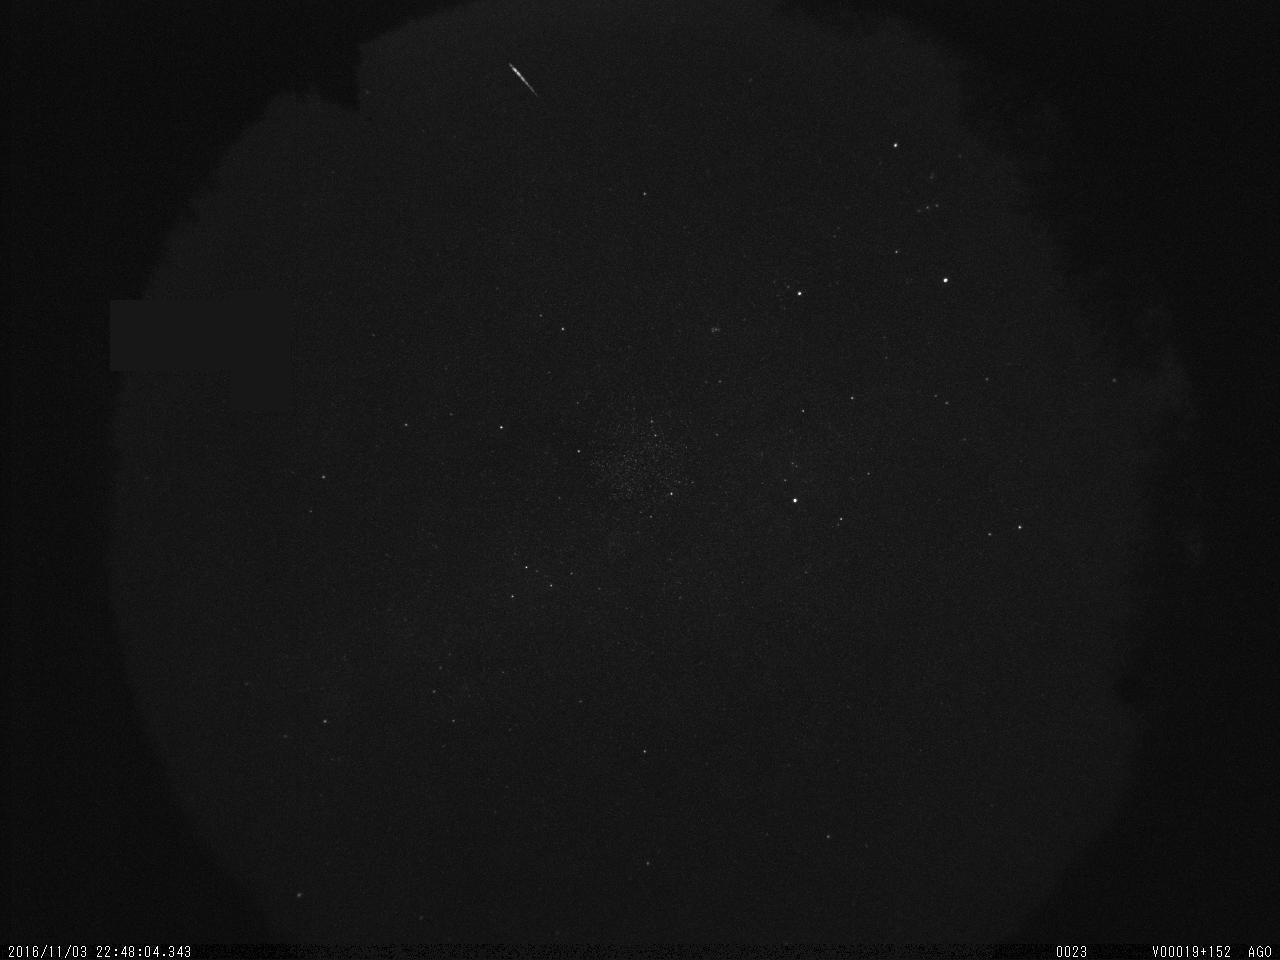meteor: (496, 50, 547, 103)
